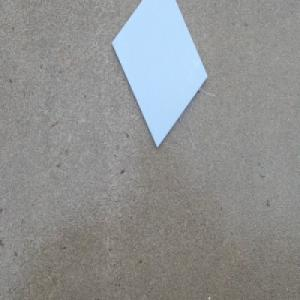PaintChip: (111, 0, 208, 147)
